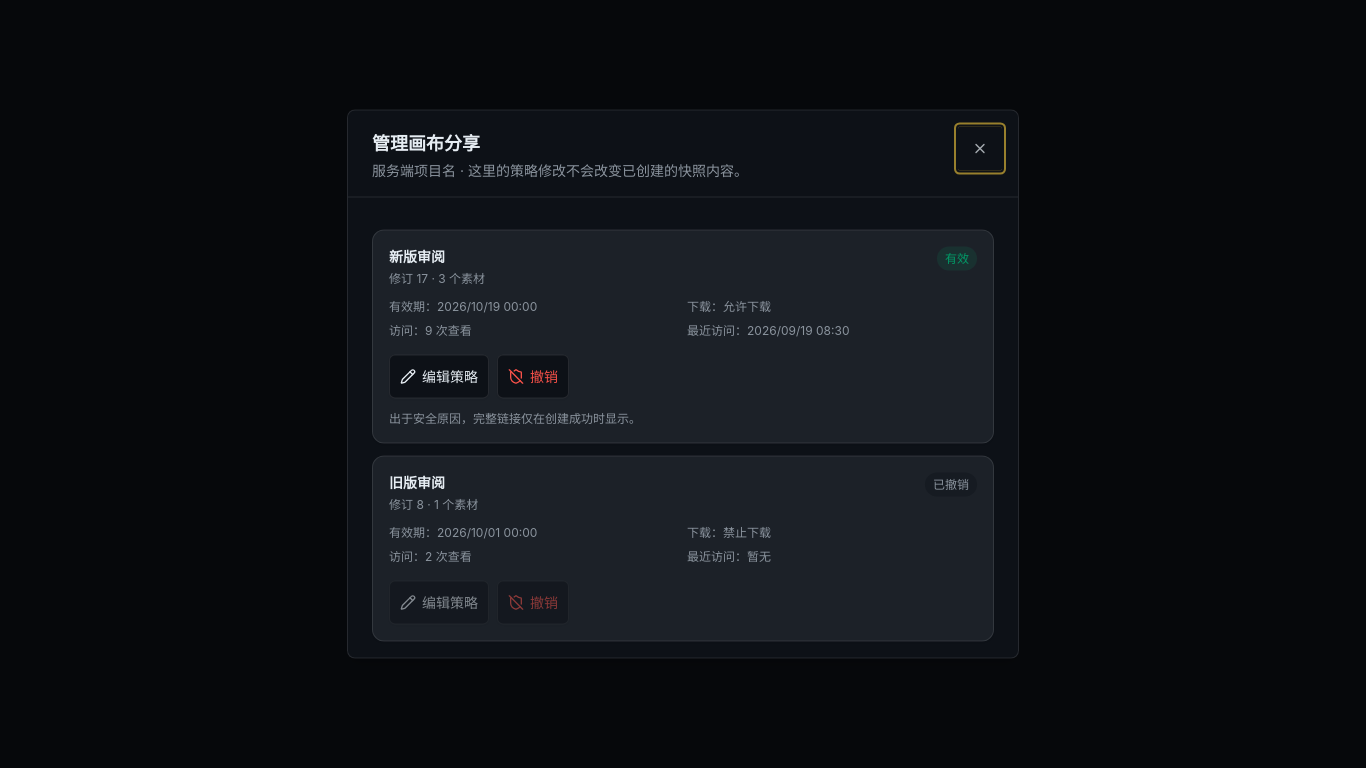
canvas share owner UI › renders policy failures inside the active policy dialog
Click the button with aria-label "编辑策略 新版审阅": (439, 376) [389, 354, 489, 398]
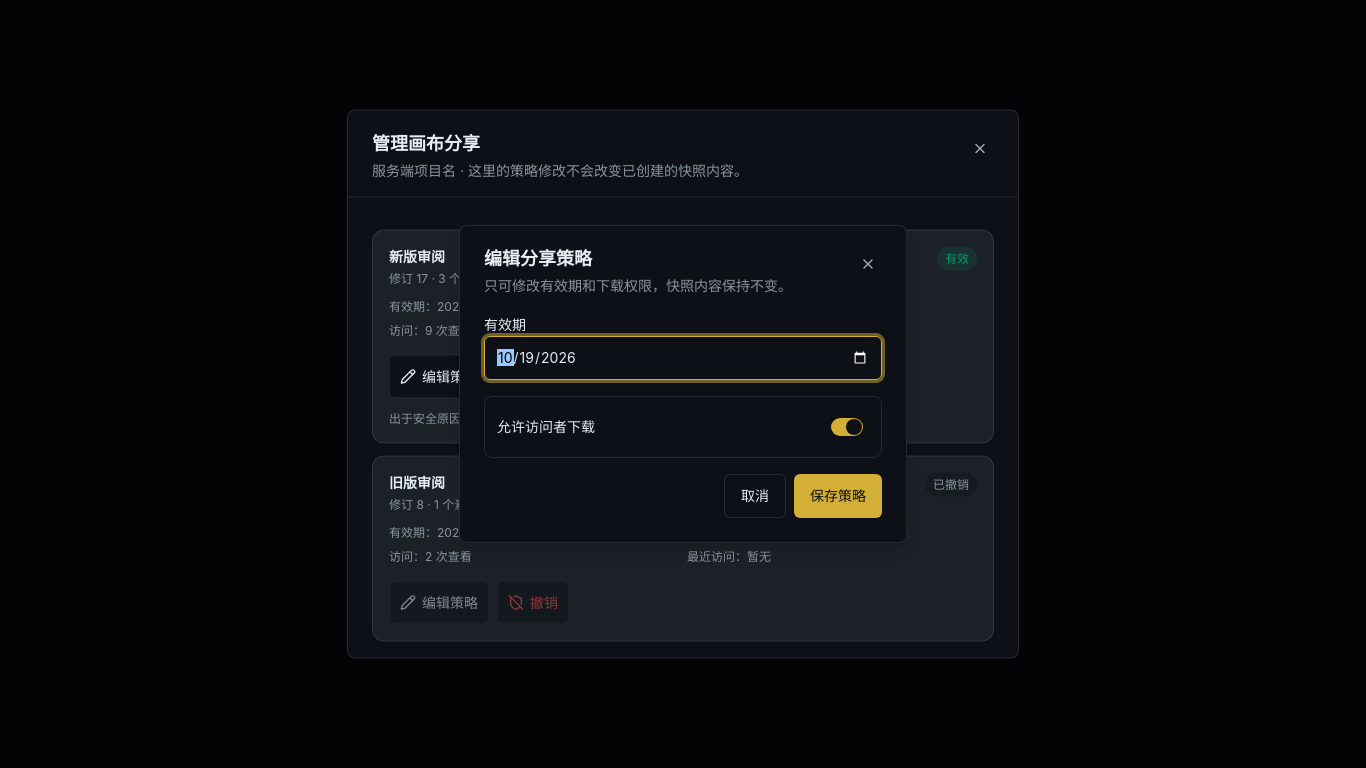
Click the button "保存策略": (838, 496) [794, 474, 882, 518]
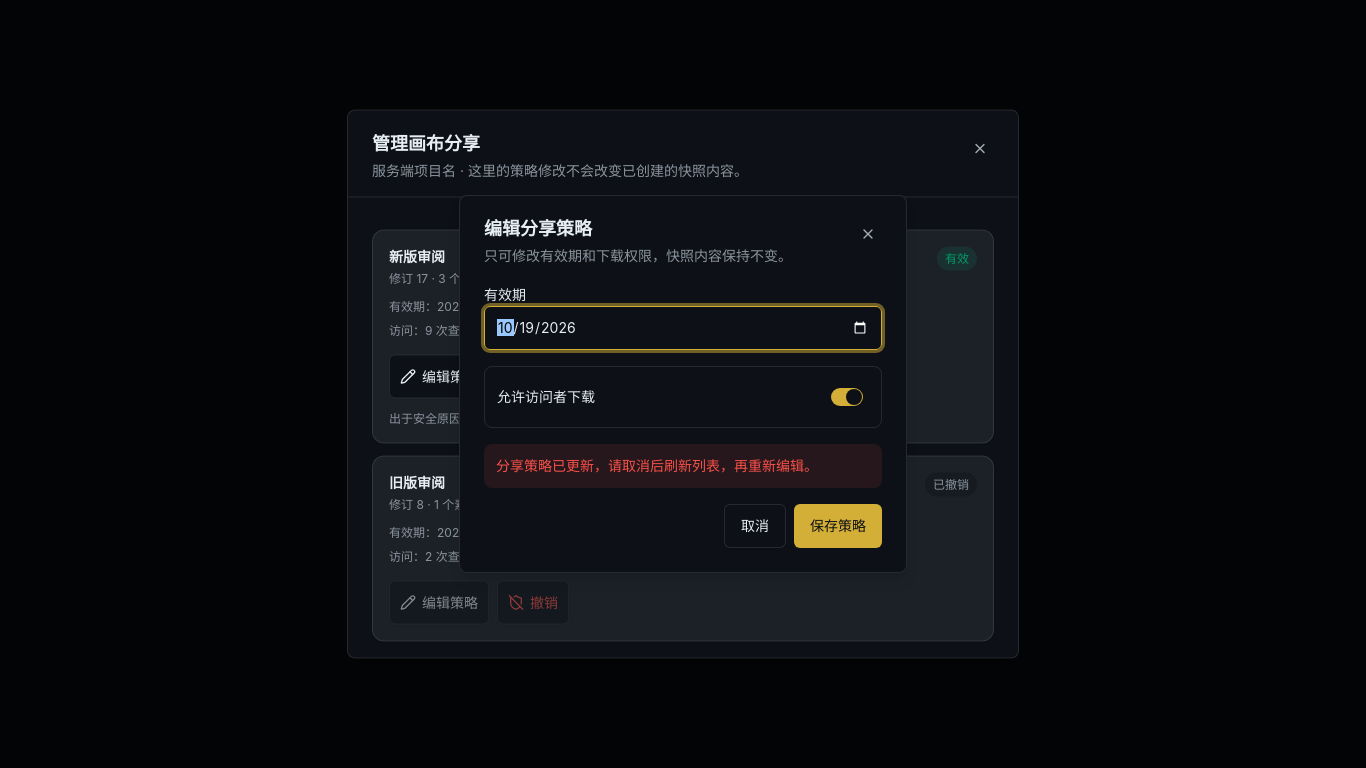
Now the message shows "取消后刷新列表", box [496, 457, 818, 474]
